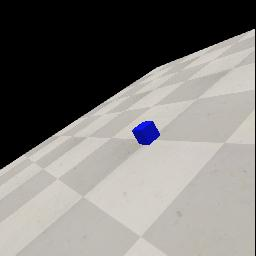box: (132, 121, 160, 145)
